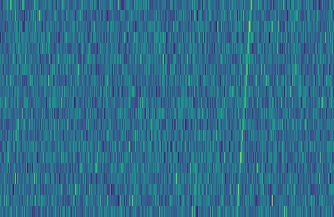signal: (234, 0, 257, 217)
